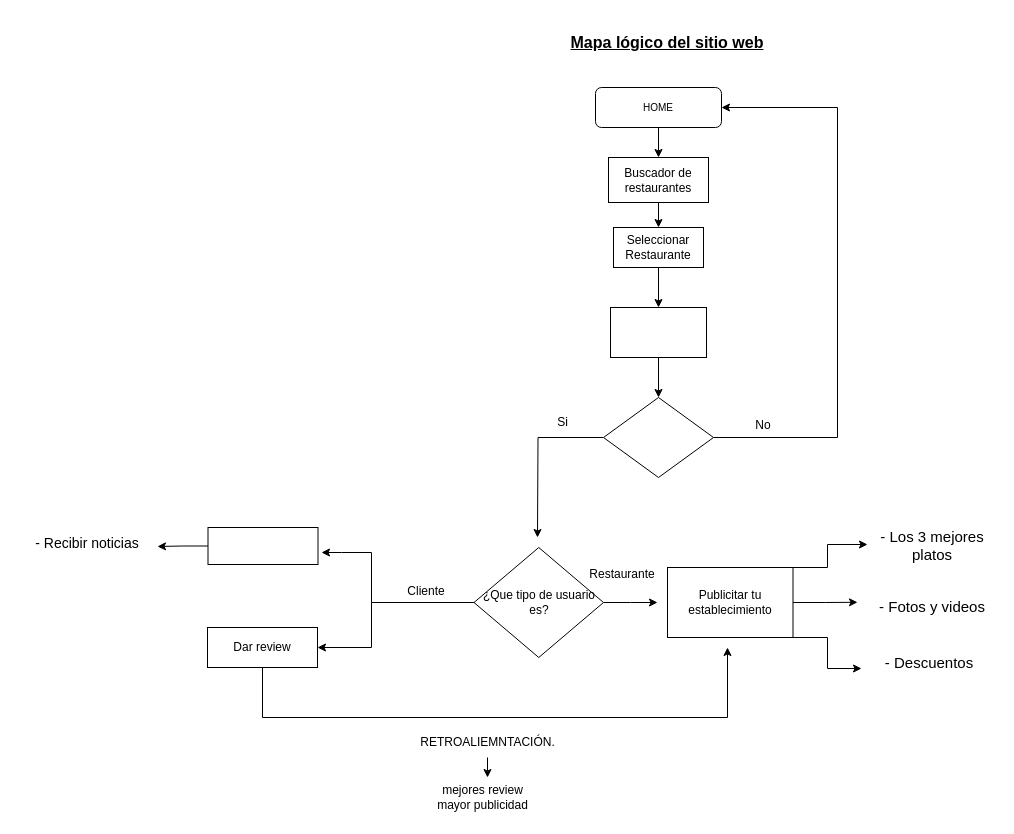
This 1014x834 diagram has some shape labels left out. Here are the shapes that lost their labels. From the top down, the centre of each, then its label:
pixel 658 332: Detalles del restaurante
pixel 658 437: ¿Logeado?
pixel 262 545: Agregar fav
